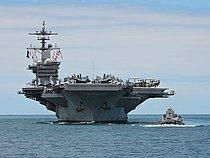MIL_Ship: (16, 18, 176, 124)
